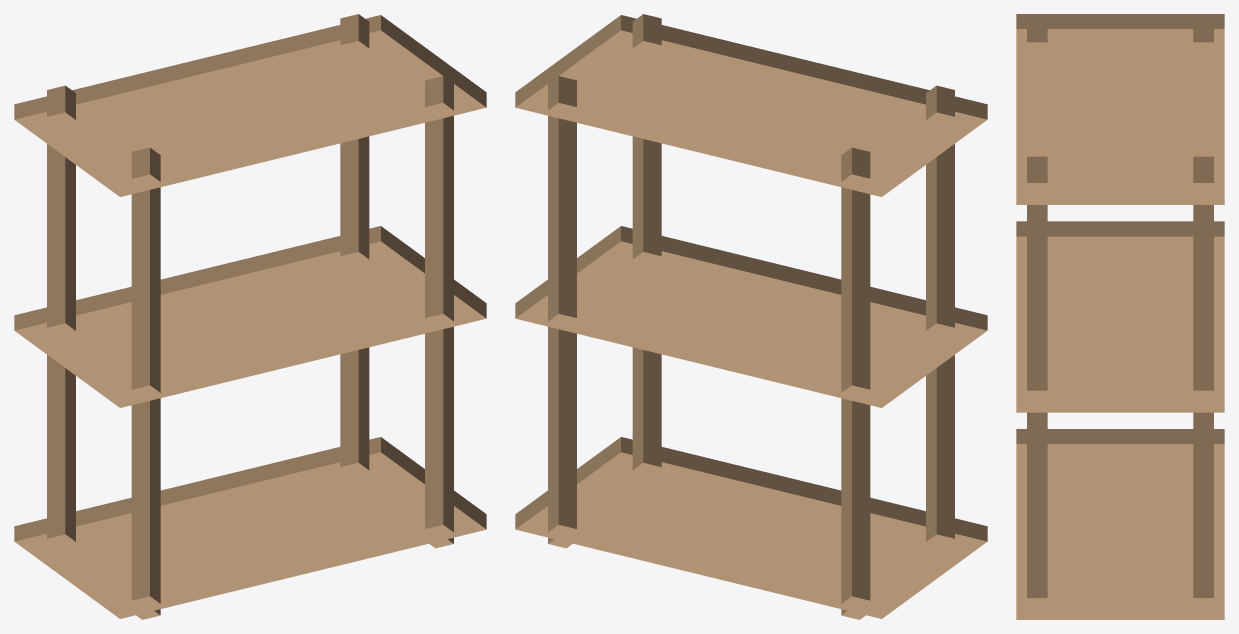
The model's file is rack-demo.glb.
3 views of the same model, side by side, from view 1: azimuth 30°, elevation 25°; view 2: azimuth 150°, elevation 25°; view 3: azimuth 270°, elevation 25° (orthographic).
Parts seen in each view (by area): view 1: Rack; view 2: Rack; view 3: Rack.
Part boxes in pixels (<box>): Rack: <box>14,14,486,619</box>; Rack: <box>515,14,987,619</box>; Rack: <box>1016,14,1224,619</box>.
Size of the model in its own units: 1 by 1.2 by 0.5.
